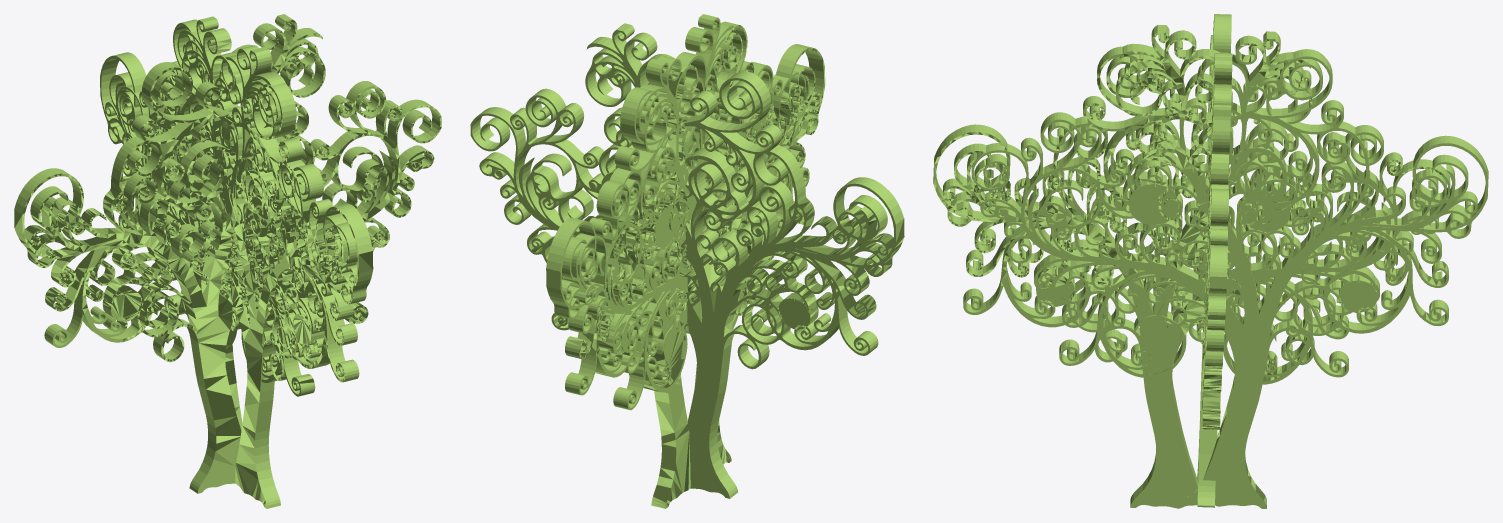
Rendered from grove tree.fbx.
The picture shows the model from 3 angles, left to right: view 1: azimuth 30°, elevation 25°; view 2: azimuth 150°, elevation 25°; view 3: azimuth 270°, elevation 25°; orthographic projection. The views are drawn at different scales.
Parts seen in each view (by area): view 1: tree:Mesh; view 2: tree:Mesh; view 3: tree:Mesh.
Part boxes in pixels (left/top/right/bottom): tree:Mesh: left=14, top=14, right=441, bottom=508; tree:Mesh: left=470, top=14, right=904, bottom=508; tree:Mesh: left=933, top=14, right=1488, bottom=508.
Size of the model in its own units: 1.27 by 1.29 by 1.36.
